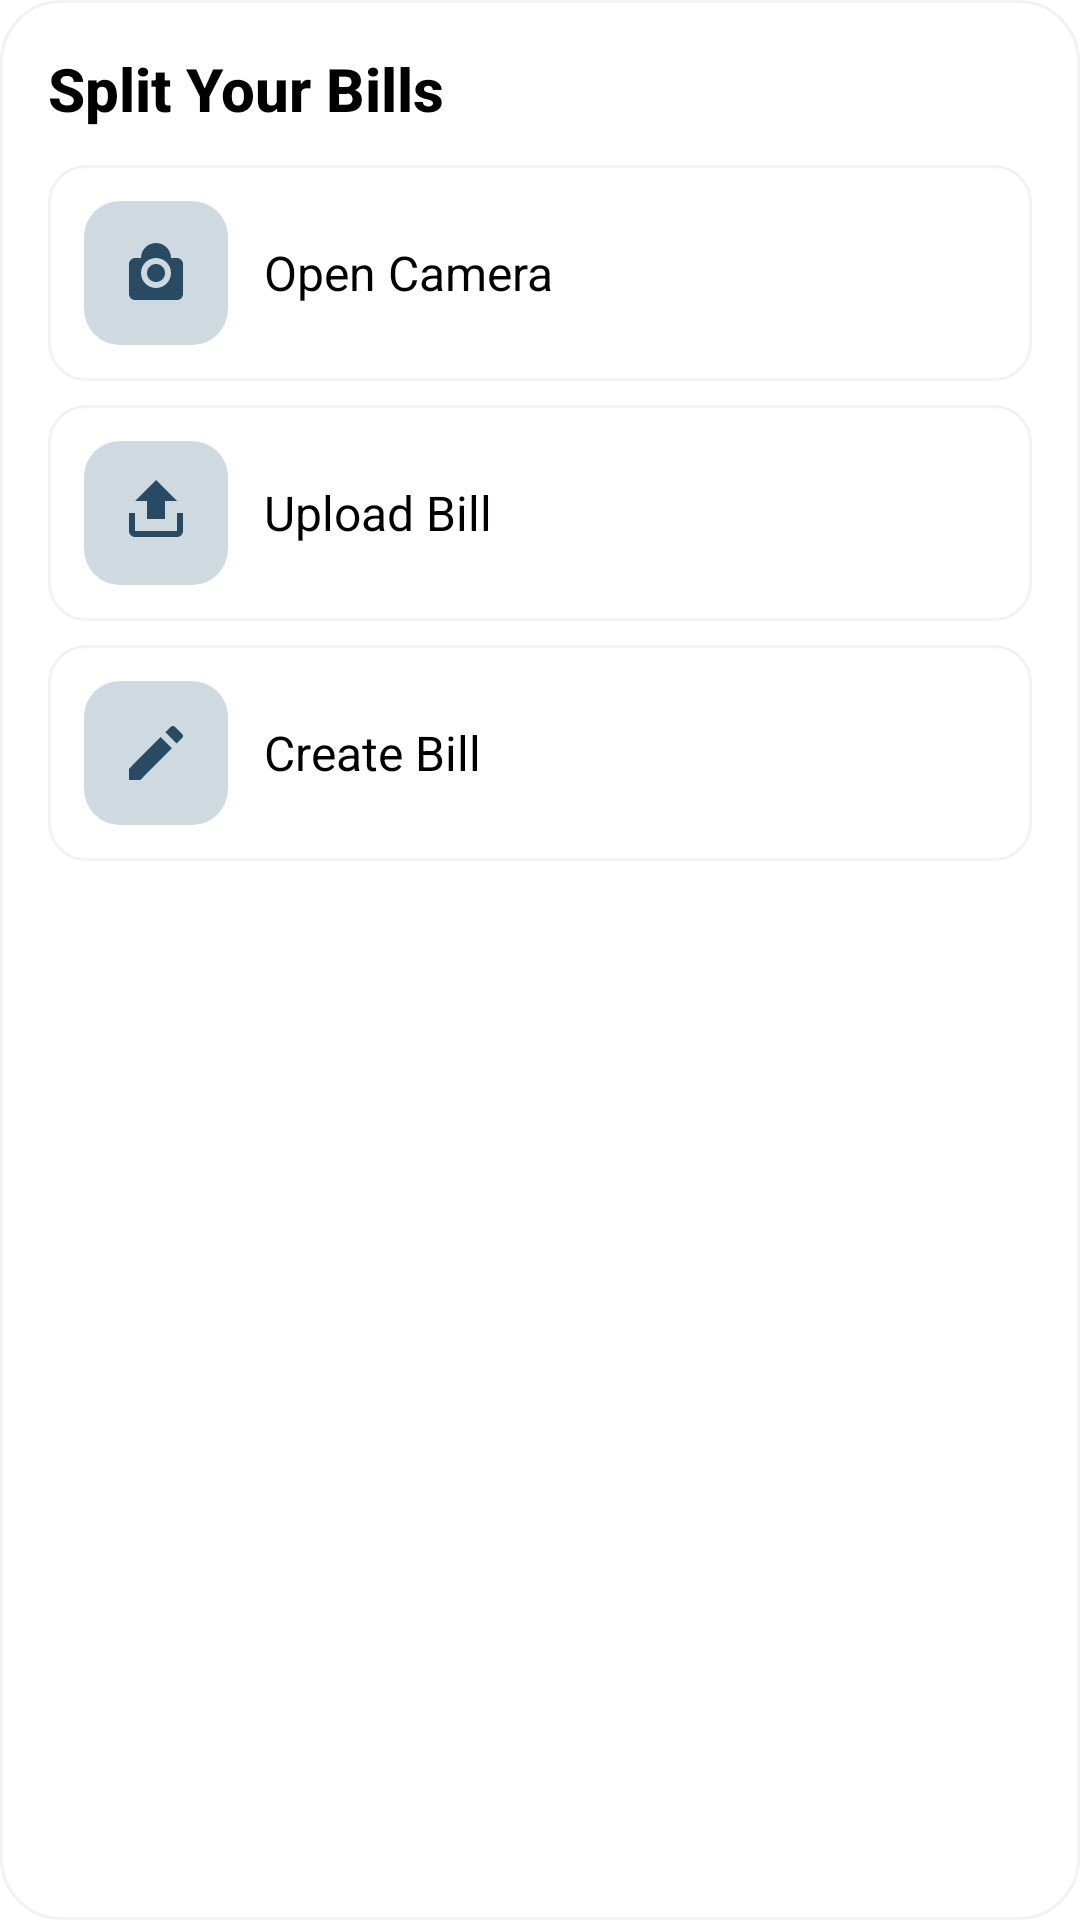

Screen size 1080px x 1920px. Icon name, then its center in pixels as (x,y):
edit: (156,753)
